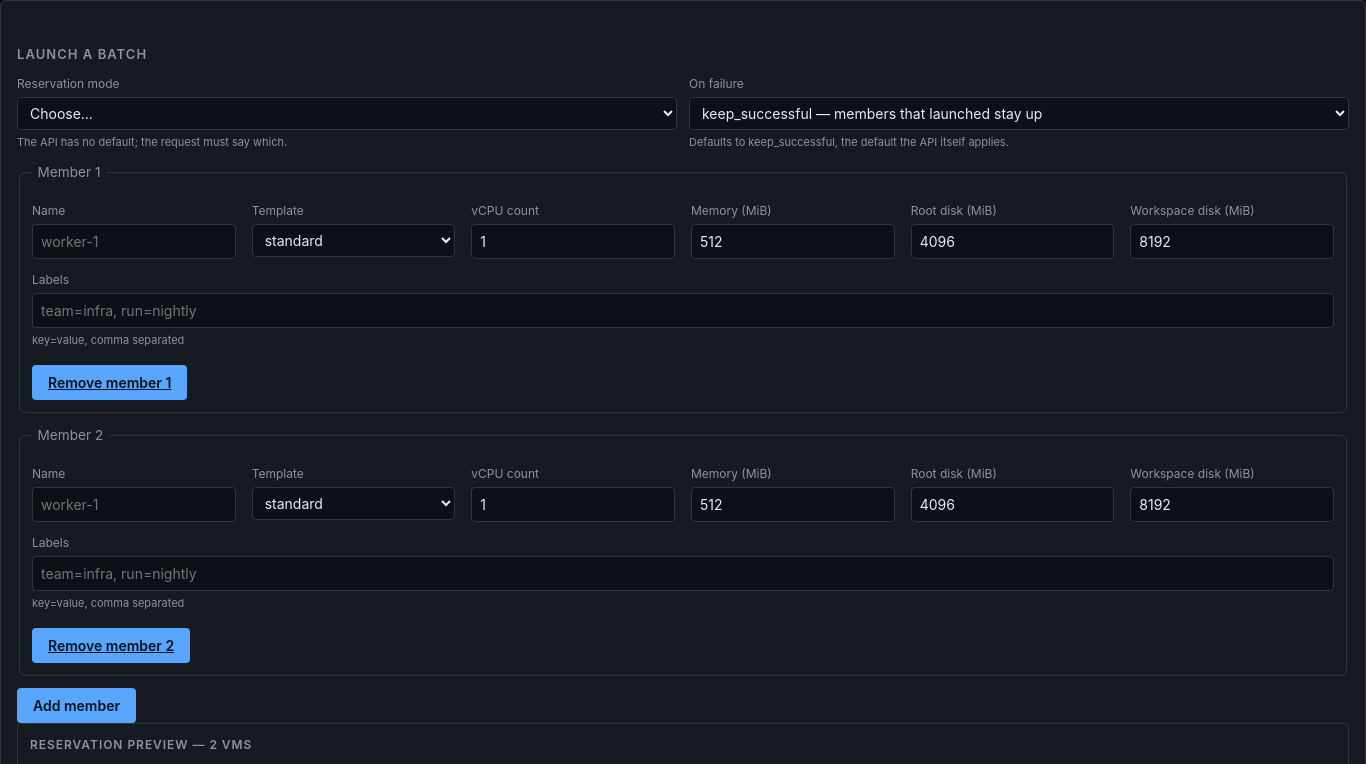
Test: LaunchBatch progress › says partial, never succeeded, when one member is up and another failed
Select "best_effort — admit what fits, refuse the rest" in the dropdown labelled "Reservation mode" at point(347, 113), box left=17, top=96, right=677, bottom=130
(page scrolled)
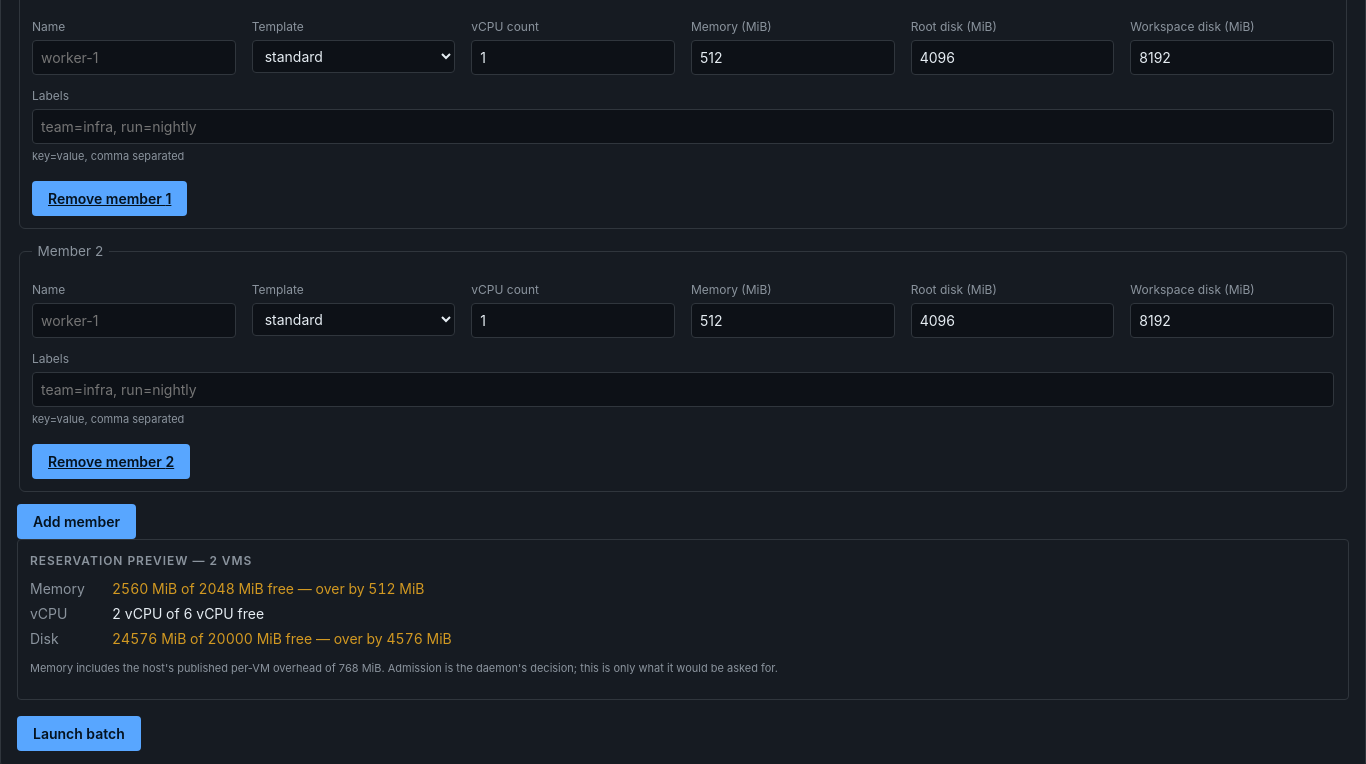
Click the button "Launch batch".
click(79, 734)  # box left=17, top=716, right=141, bottom=751
(page scrolled)
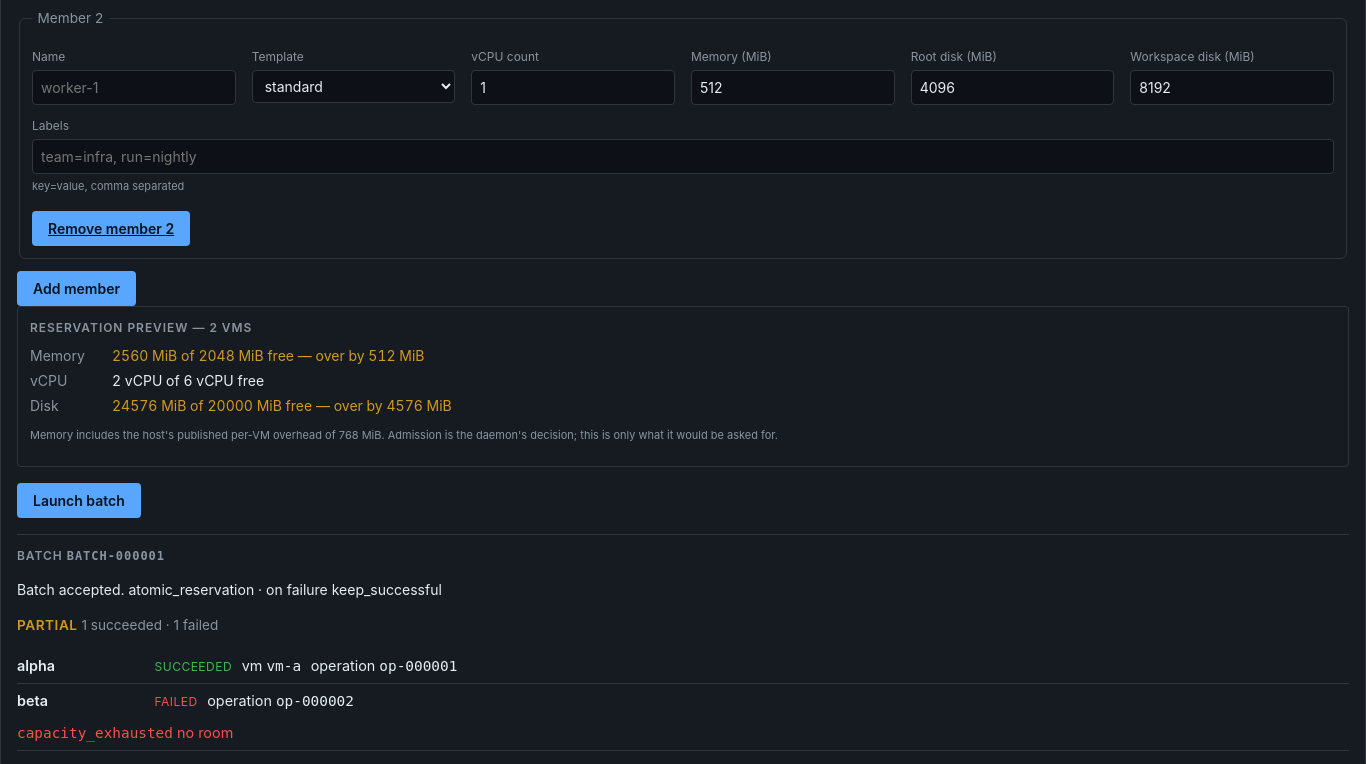
Expected: the text with test id "batch-state" does not show "succeeded", left=17, top=617, right=78, bottom=633
Expected: the text with test id "batch-state" reads "partial", left=17, top=617, right=78, bottom=633
